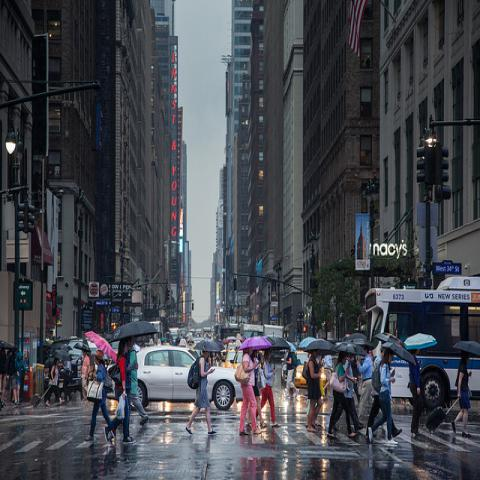bus: (364, 277, 480, 407), (220, 328, 240, 340)
car: (137, 345, 243, 411), (42, 338, 84, 393), (294, 350, 327, 388)
truck: (263, 324, 289, 341), (239, 324, 264, 338)
